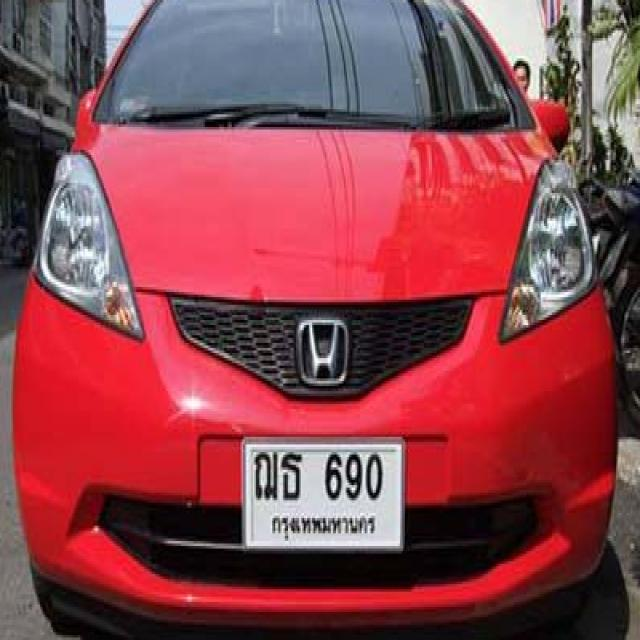license_plate: (240, 435, 406, 556)
